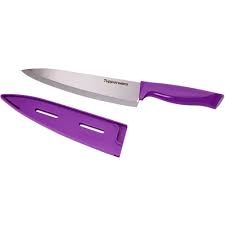kuchillu: (15, 60, 224, 114)
